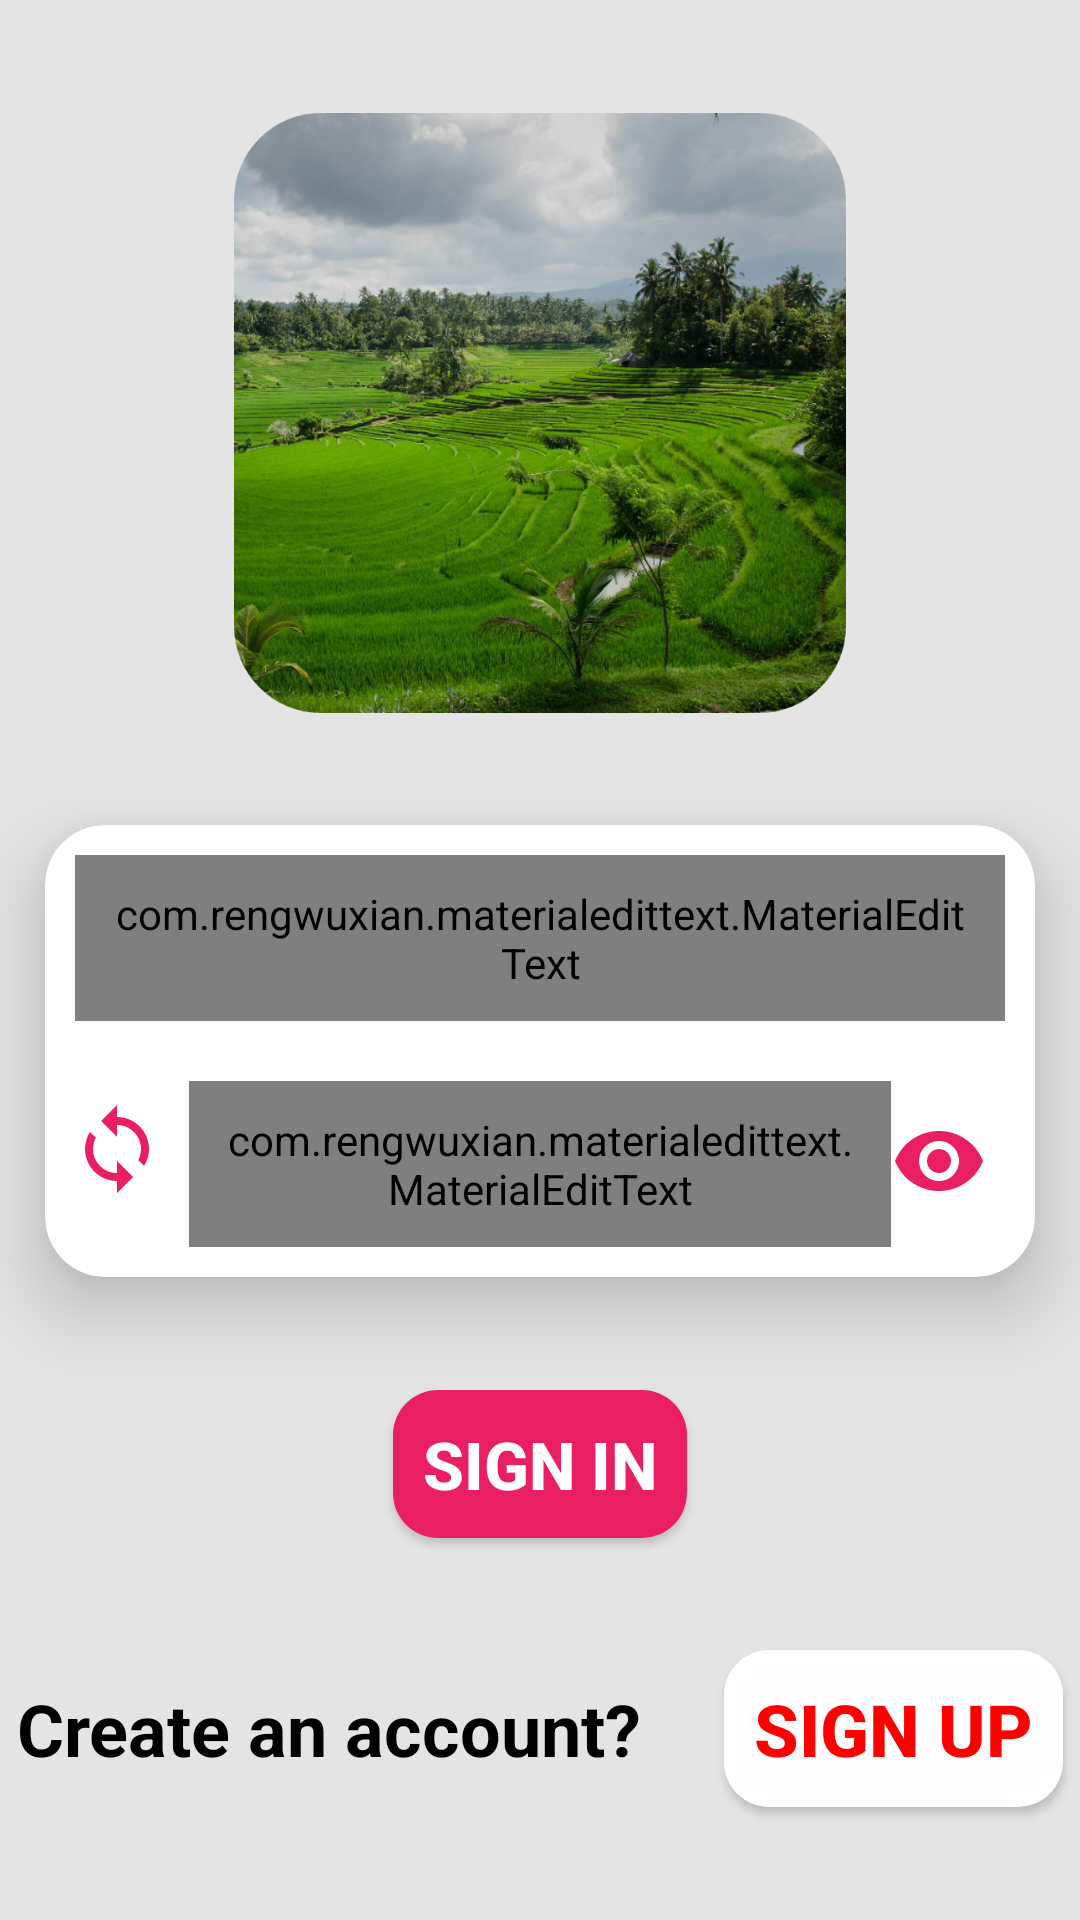

Screen size 1080px×1920px. Icon name, then its center in pixels as [x,y]:
sync: [117,1149]
